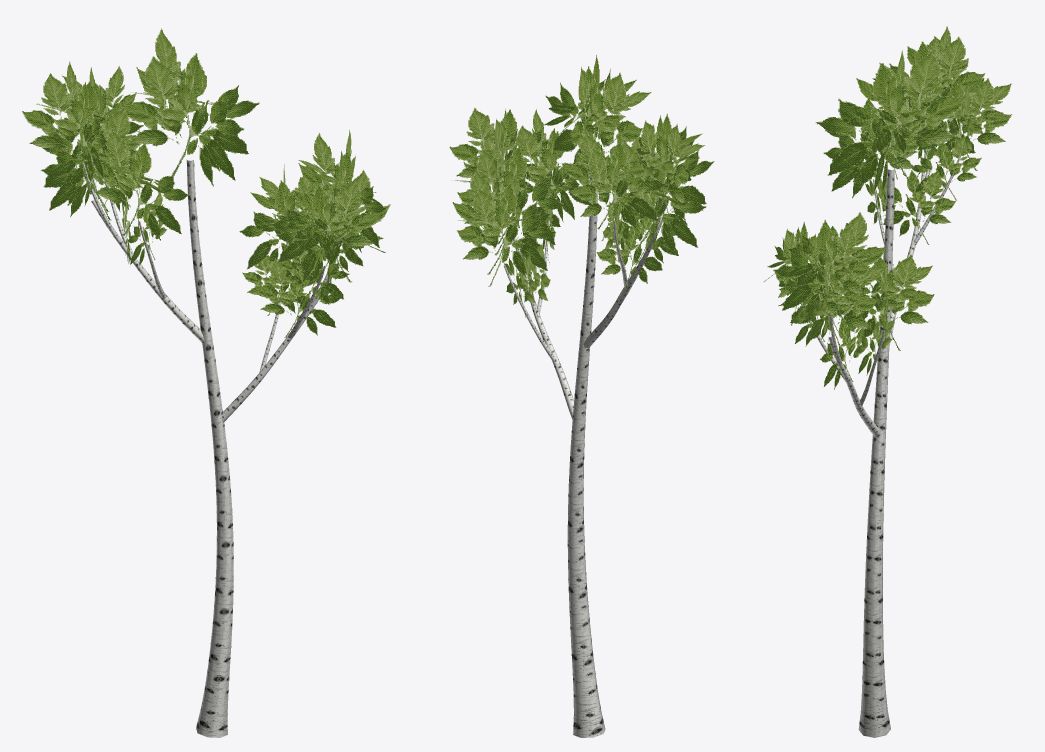
The model's file is arvore_betula.glb.
3 views of the same model, side by side, from view 1: azimuth 30°, elevation 25°; view 2: azimuth 150°, elevation 25°; view 3: azimuth 270°, elevation 25° (orthographic). The views are drawn at different scales.
Visible parts, largest first — view 1: ArvoreBetula; view 2: ArvoreBetula; view 3: ArvoreBetula.
Boxes of the visible parts, bbox=[...] form: ArvoreBetula: bbox=[22, 28, 390, 737]; ArvoreBetula: bbox=[449, 55, 714, 737]; ArvoreBetula: bbox=[763, 26, 1012, 737].
Bounding box in the file's own units: 3.9 × 8.01 × 2.93.
2 materials, 2 textured.
